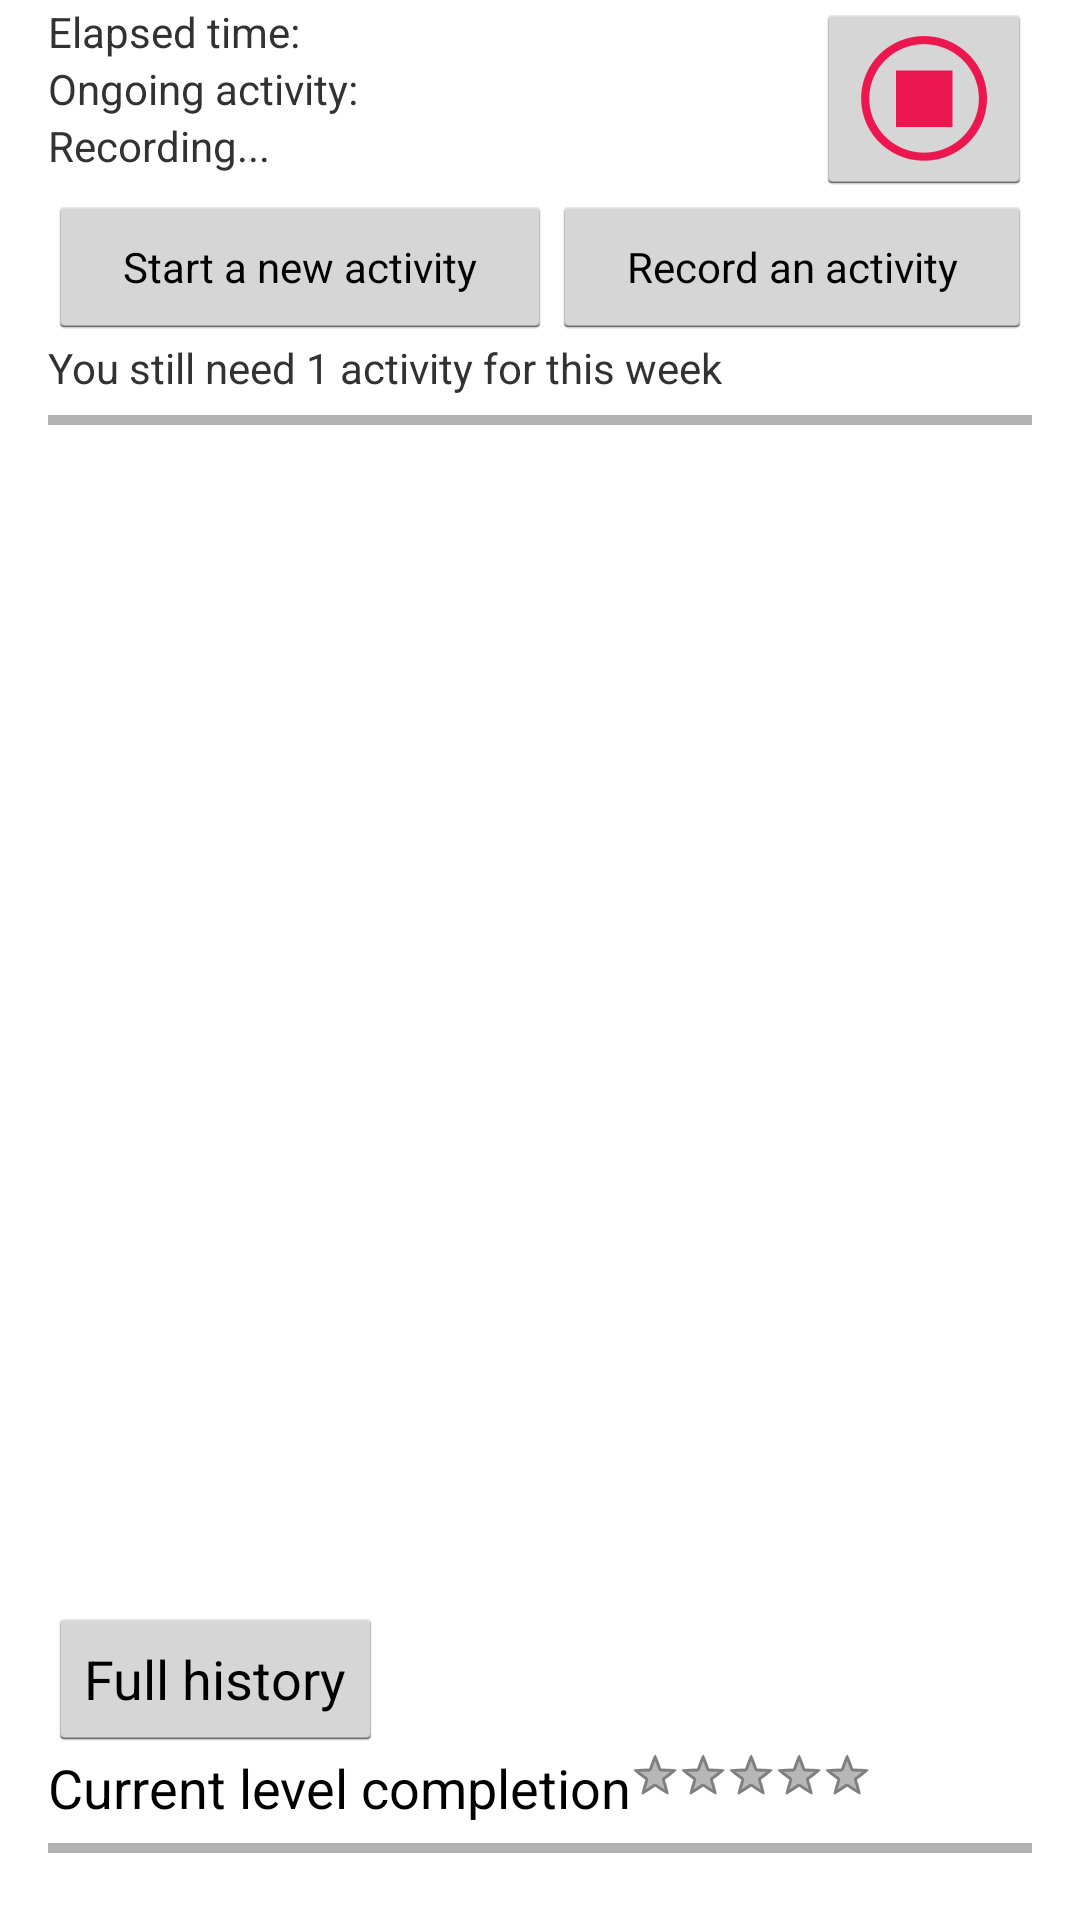

Named icons in this screenshot (1080w x 1920h) and their bounding boxes, {"x1": x1, "y1": y1, "x2": x2, "y2": y2}:
stop: {"x1": 828, "y1": 16, "x2": 1020, "y2": 184}
